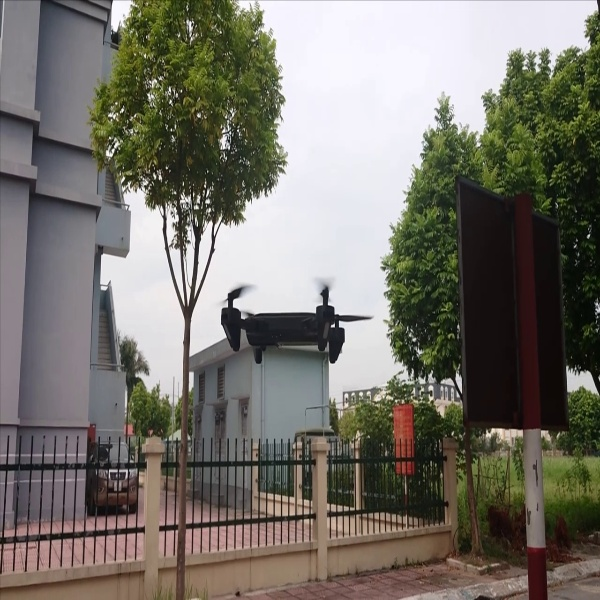drone: (216, 270, 377, 371)
